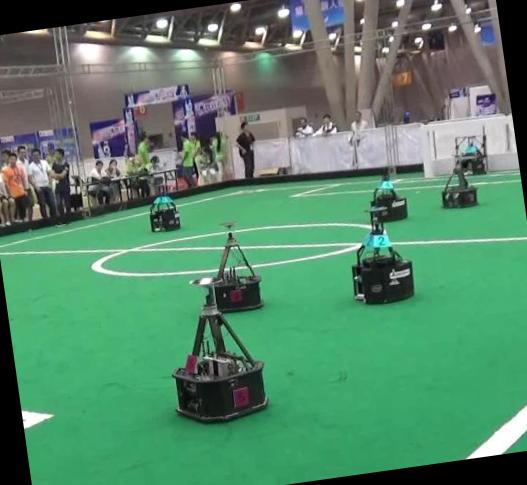goal: (418, 124, 432, 176)
person: (51, 148, 71, 222)
robot: (172, 278, 266, 422), (351, 209, 414, 304), (213, 221, 263, 312), (371, 177, 407, 221), (441, 161, 476, 206), (149, 195, 180, 232), (456, 134, 485, 173)
